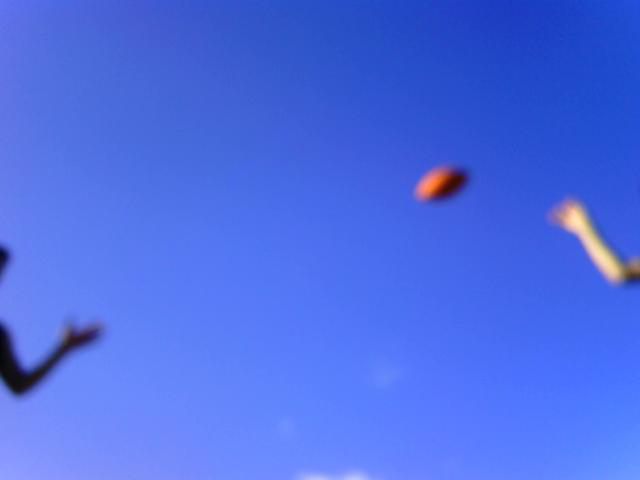football: (413, 162, 469, 201)
